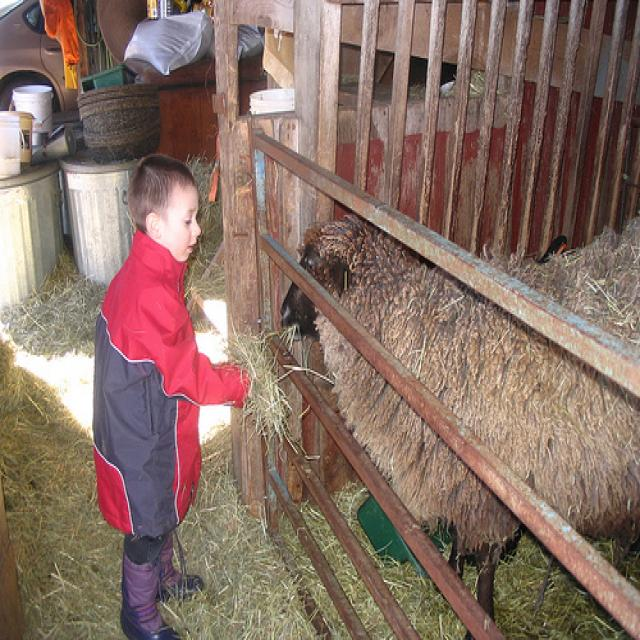child: (92, 152, 260, 640)
